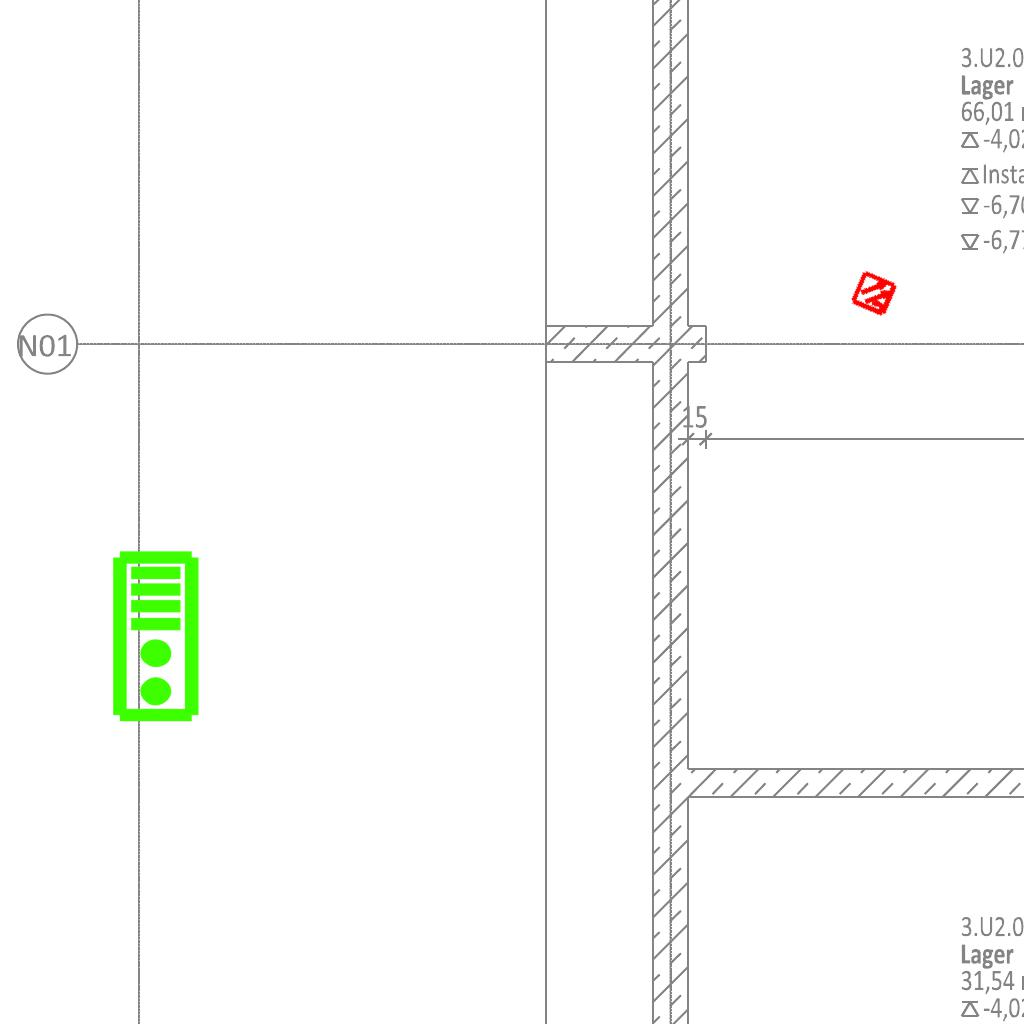Gegensprechanlage_mit_Video: (110, 549, 205, 725)
OT_Multisensormelder_(Kombination_RMO_WMD): (838, 257, 912, 331)
